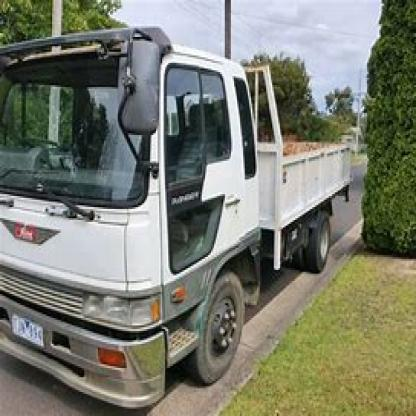dump_truck: (1, 17, 354, 408)
